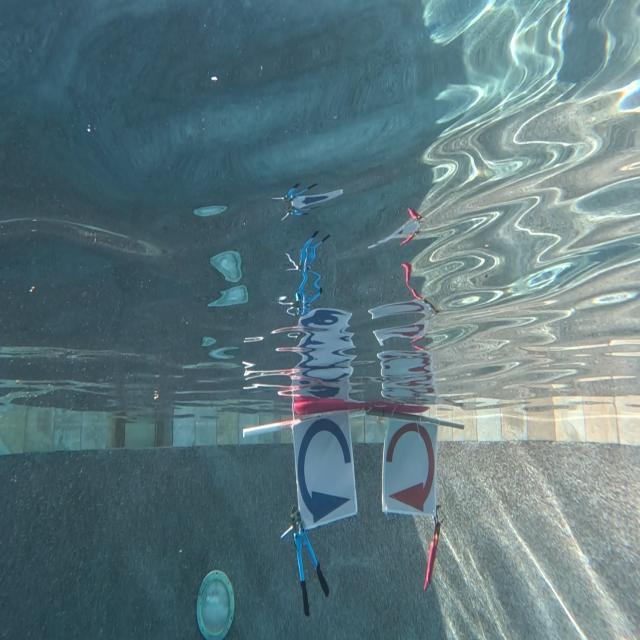blue_side: (293, 418, 357, 523)
red_side: (379, 420, 437, 515)
